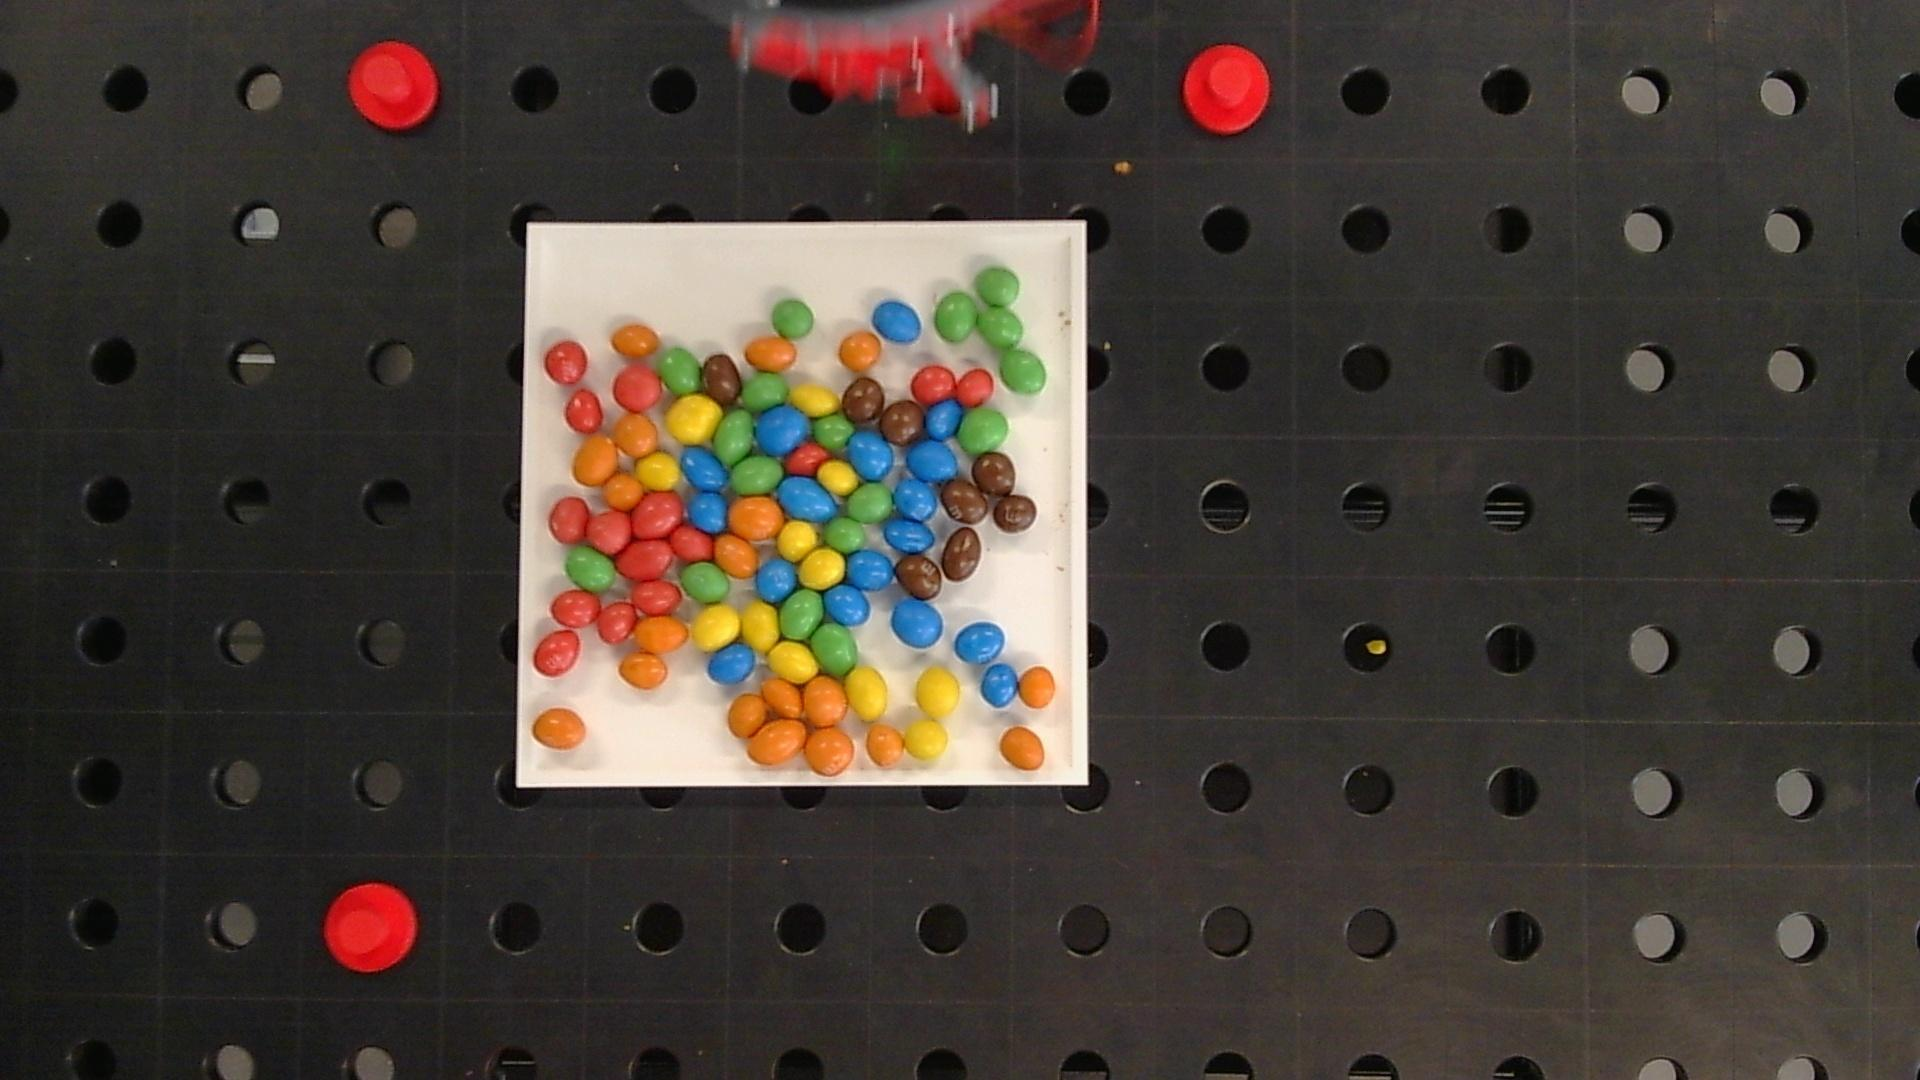blue: (885, 520, 942, 599), (779, 475, 837, 521), (891, 599, 944, 647), (757, 406, 811, 454), (955, 621, 1005, 663), (906, 440, 957, 481), (873, 301, 922, 343), (849, 433, 893, 479), (894, 477, 939, 521), (707, 644, 756, 683), (847, 551, 894, 591), (756, 559, 798, 601), (682, 450, 727, 489), (825, 585, 870, 625), (884, 518, 934, 553), (980, 665, 1019, 707), (687, 491, 728, 530), (926, 400, 963, 439)
brown: (940, 527, 981, 582), (942, 479, 988, 524), (703, 353, 741, 404), (897, 556, 942, 599), (881, 401, 923, 443), (843, 377, 884, 421), (973, 452, 1014, 496), (993, 495, 1036, 533)
green: (812, 624, 858, 674), (934, 291, 977, 343), (564, 547, 615, 591), (1000, 349, 1047, 394), (731, 454, 783, 493), (779, 591, 823, 638), (680, 563, 731, 604), (715, 410, 753, 463), (658, 348, 702, 393), (963, 410, 1009, 452), (975, 268, 1019, 306), (848, 484, 893, 522), (741, 372, 787, 409), (981, 307, 1022, 347), (773, 299, 814, 338), (824, 517, 865, 551), (814, 414, 853, 448)
orange: (748, 719, 806, 765), (804, 728, 855, 775), (531, 708, 587, 749), (731, 497, 782, 538), (574, 436, 617, 484), (804, 678, 847, 725), (1000, 727, 1044, 770), (634, 616, 688, 651), (715, 534, 758, 578), (615, 414, 657, 456), (745, 336, 796, 371), (620, 654, 667, 690), (865, 724, 905, 766), (728, 692, 766, 736), (839, 332, 881, 371), (611, 324, 659, 357), (762, 678, 802, 716), (1019, 666, 1056, 707), (604, 473, 642, 508)
red: (632, 493, 683, 537), (617, 541, 671, 580), (534, 632, 580, 675), (613, 367, 661, 409), (584, 510, 632, 553), (545, 340, 588, 384), (549, 497, 588, 542), (551, 591, 600, 626), (911, 365, 956, 402), (596, 603, 637, 642), (566, 389, 603, 433), (632, 580, 679, 613), (670, 525, 713, 559), (785, 443, 828, 475), (956, 369, 993, 404)
yellow: (667, 396, 721, 443), (915, 667, 960, 716), (847, 667, 887, 720), (692, 605, 740, 650), (770, 642, 818, 682), (800, 549, 845, 589), (905, 720, 948, 760), (741, 603, 778, 649), (777, 522, 819, 559), (637, 452, 679, 488), (790, 385, 839, 415), (818, 462, 858, 495)
